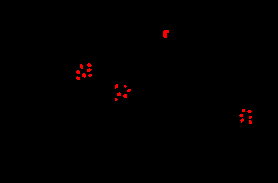Target: (163, 30, 169, 38), (87, 63, 92, 67), (87, 68, 92, 72), (82, 73, 86, 78), (240, 118, 244, 123), (76, 70, 80, 74), (76, 76, 80, 80), (117, 92, 121, 96), (123, 94, 127, 98), (80, 64, 83, 69), (115, 84, 118, 89), (247, 110, 252, 113), (88, 74, 92, 77), (127, 89, 131, 92), (239, 114, 243, 117), (249, 120, 252, 124), (124, 85, 127, 88), (115, 98, 118, 101), (242, 109, 245, 112), (249, 116, 252, 119)
